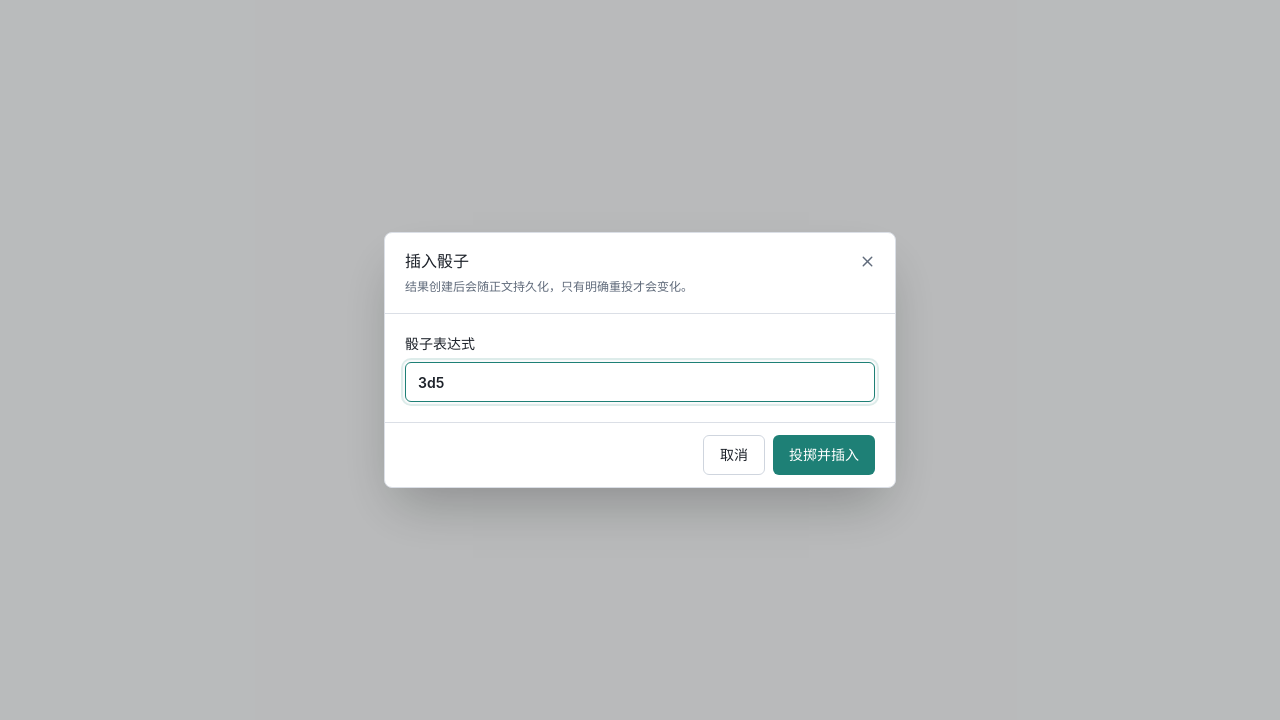
editor dialogs › 骰子失败时保留对话框并显示错误
The width and height of the screenshot is (1280, 720).
Step 1. Click the button "投掷并插入" → [824, 455], box [773, 435, 875, 475]
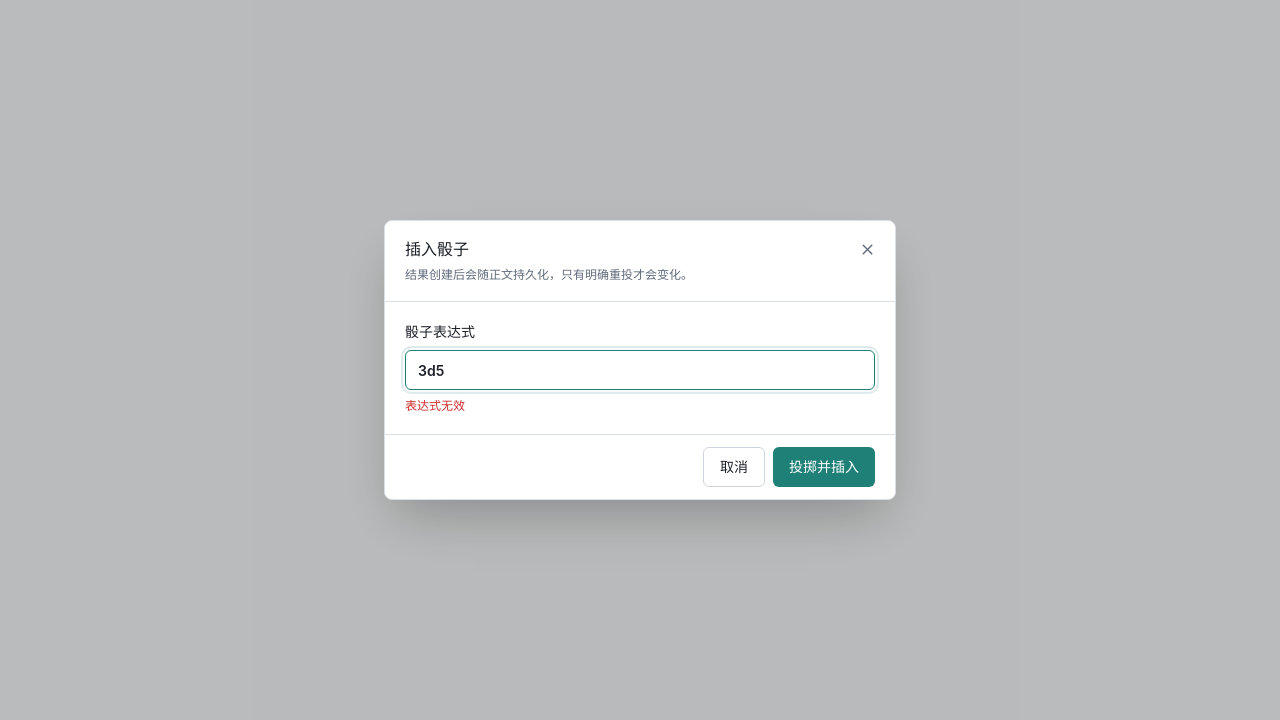
Expected: the message reads "表达式无效", [405, 398, 465, 413]
